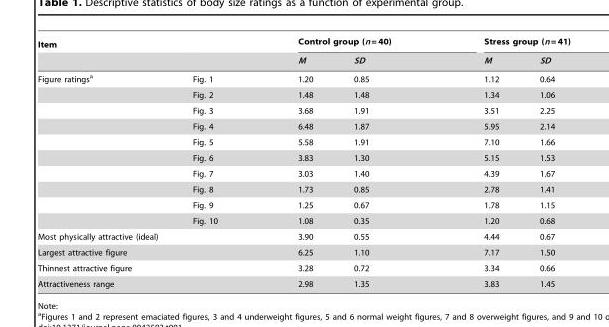table: (37, 36, 570, 288)
table column: (141, 36, 256, 288), (37, 36, 141, 288), (332, 36, 436, 288), (436, 36, 518, 288), (256, 36, 332, 288), (518, 36, 570, 288)
table column header: (37, 36, 570, 68)
table row: (37, 68, 570, 86), (37, 36, 570, 52), (37, 52, 570, 68), (37, 86, 570, 102), (37, 102, 570, 118), (37, 118, 570, 134), (37, 149, 570, 165), (37, 165, 570, 181), (37, 181, 570, 197), (37, 212, 570, 228), (37, 228, 570, 244), (37, 244, 570, 260), (37, 134, 570, 149), (37, 197, 570, 212), (37, 260, 570, 275), (37, 275, 570, 288)
table spanning cell: (37, 68, 141, 228), (37, 228, 256, 244), (37, 244, 256, 260), (37, 36, 141, 68), (37, 260, 256, 275), (256, 36, 436, 52), (37, 275, 256, 288), (436, 36, 570, 52)
